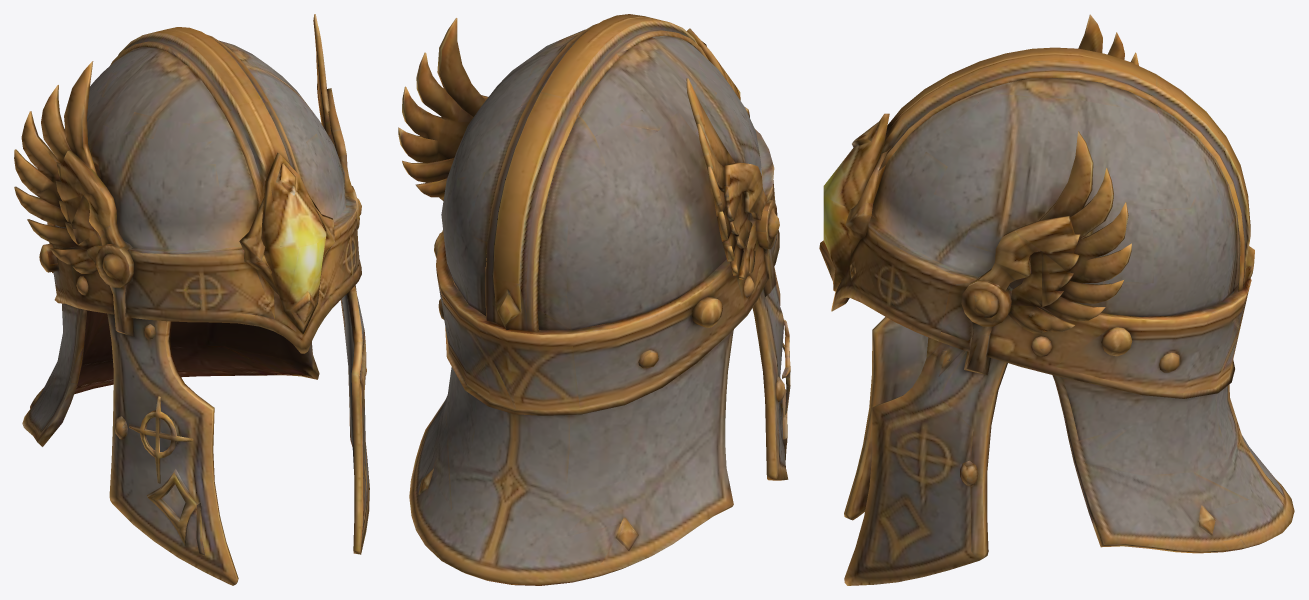
File: helm_of_brilliance.glb
3 renders of one model, left to right at view 1: azimuth 30°, elevation 25°; view 2: azimuth 150°, elevation 25°; view 3: azimuth 270°, elevation 25°, orthographic. The views are drawn at different scales.
Parts seen in each view (by area): view 1: helm_of_brilliance; view 2: helm_of_brilliance; view 3: helm_of_brilliance.
Part boxes in pixels (x1=…): helm_of_brilliance: x1=14, y1=14, x2=369, y2=585; helm_of_brilliance: x1=398, y1=14, x2=790, y2=585; helm_of_brilliance: x1=819, y1=14, x2=1294, y2=585.
Bounding box in the file's own units: 0.2094 × 0.3 × 0.2593.
1 material, 1 textured.
